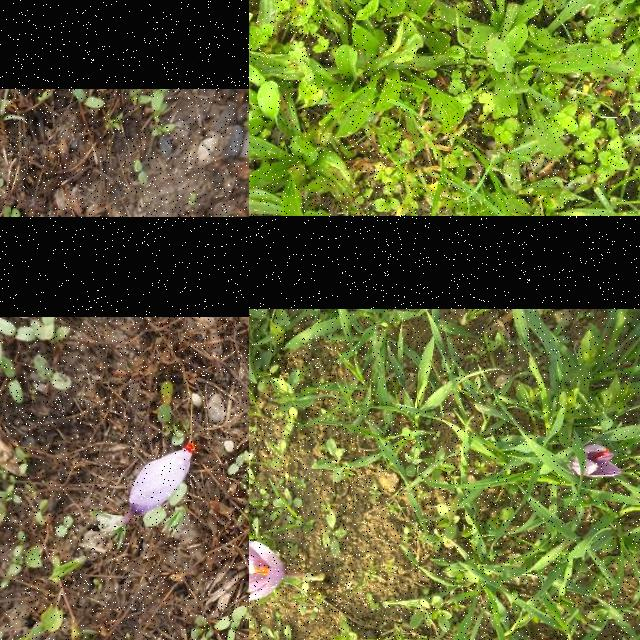flower: (129, 439, 195, 518), (249, 539, 286, 602), (569, 446, 623, 476)
